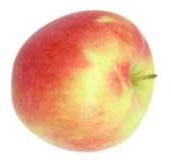apple: (0, 0, 171, 166)
